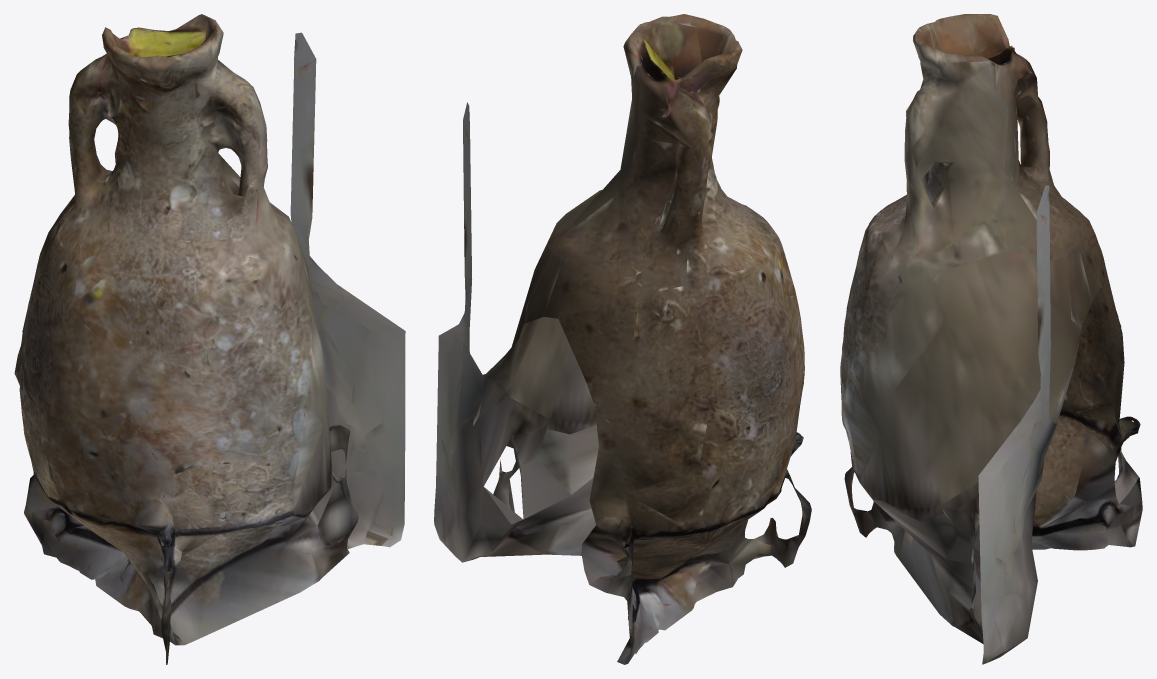
The model's file is anfora_mar.glb.
The picture shows the model from 3 angles, left to right: view 1: azimuth 30°, elevation 25°; view 2: azimuth 150°, elevation 25°; view 3: azimuth 270°, elevation 25°; orthographic projection. The views are drawn at different scales.
Visible parts, largest first — view 1: Object_2; view 2: Object_2; view 3: Object_2.
Boxes of the visible parts, x1,y1,x2,y2 form: Object_2: (14, 14, 405, 664); Object_2: (434, 14, 811, 664); Object_2: (840, 14, 1142, 664).
Bounding box in the file's own units: 0.8317 × 1.27 × 0.6587.
1 material, 1 textured.
